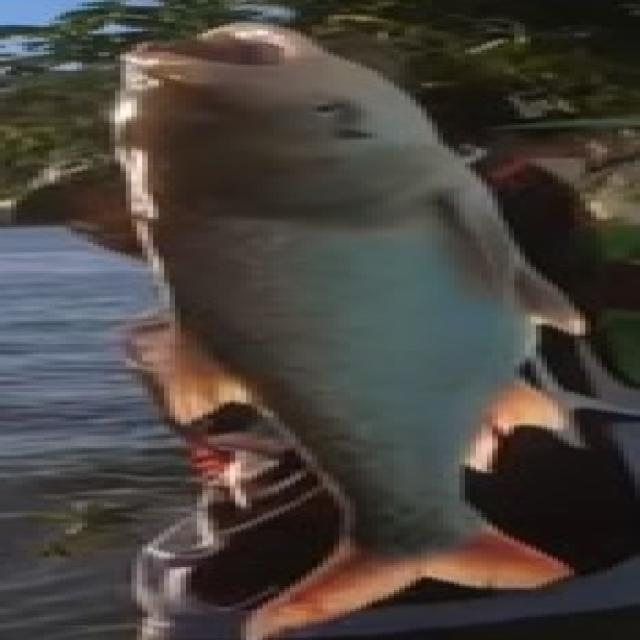Big-Head-Carp: (32, 14, 612, 640)
